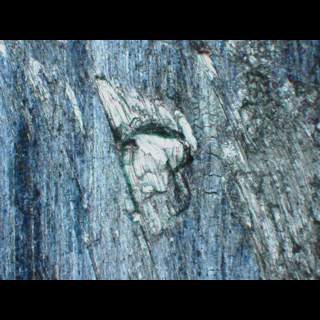d: (87, 70, 207, 236)
